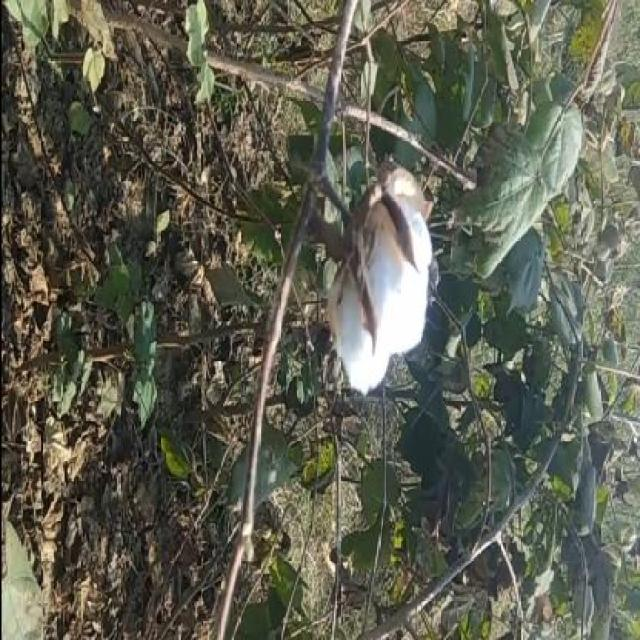cotton_ready: (294, 126, 458, 402)
